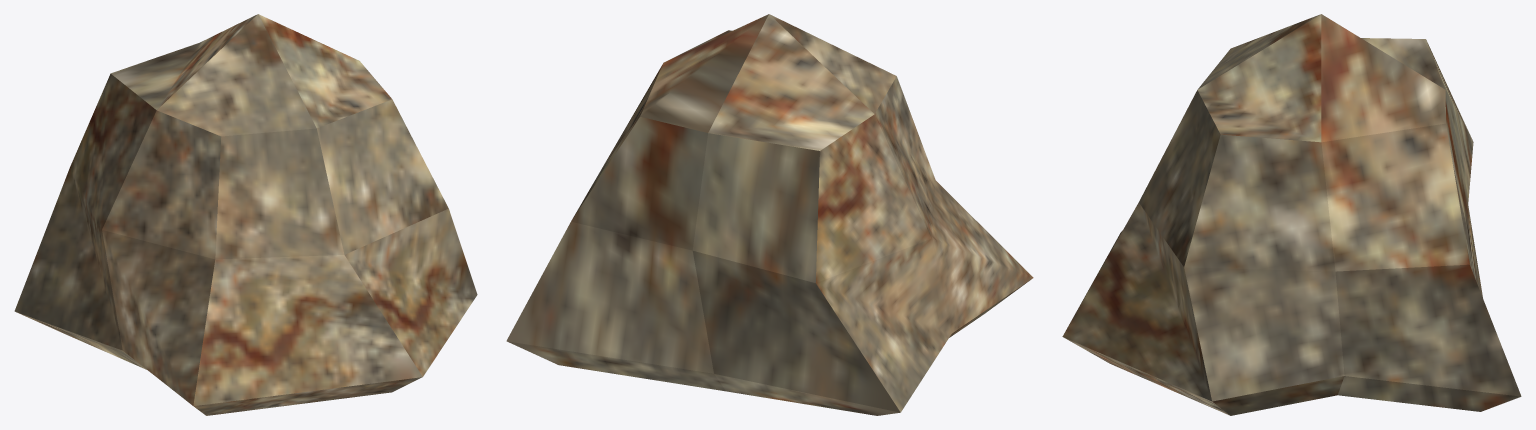
Rendered from Boulder.fbx.
3 views of the same model, side by side, from view 1: azimuth 30°, elevation 25°; view 2: azimuth 150°, elevation 25°; view 3: azimuth 270°, elevation 25° (orthographic). The views are drawn at different scales.
Visible parts, largest first — view 1: Boulder; view 2: Boulder; view 3: Boulder.
Boxes of the visible parts, box(x1,y1,x2,y2) form: Boulder: box(14, 14, 477, 415); Boulder: box(506, 14, 1033, 415); Boulder: box(1062, 14, 1521, 415).
Size of the model in its own units: 348 by 298 by 370.
